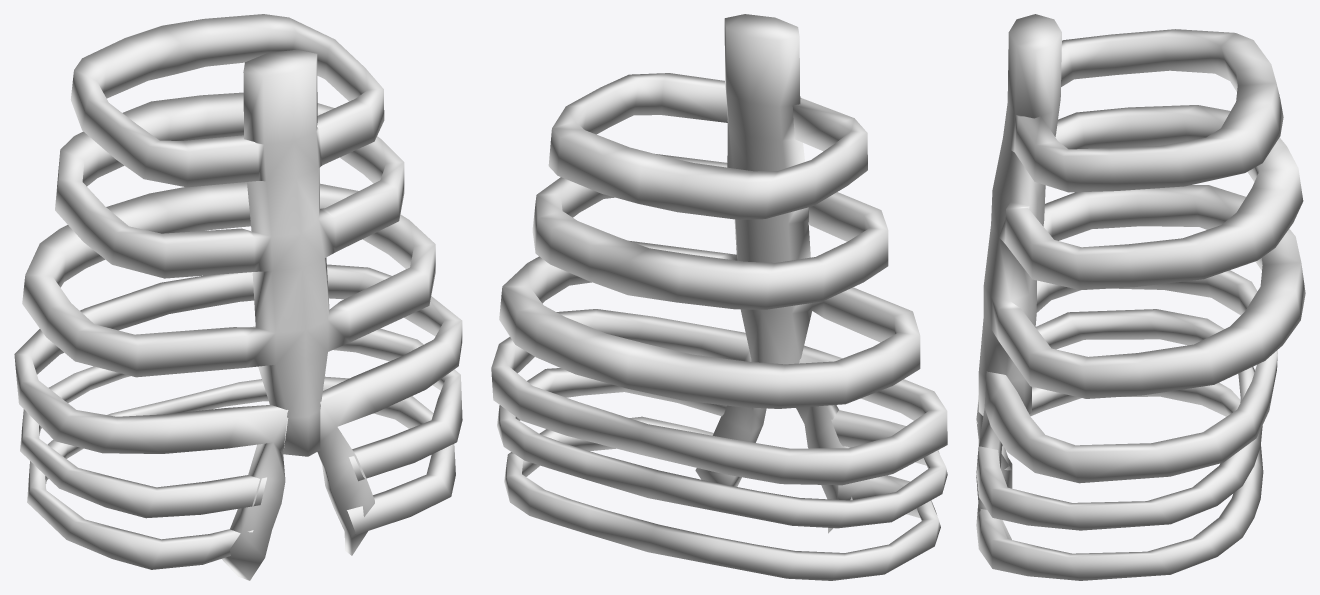
Rendered from rib.obj.
3 views of the same model, side by side, from view 1: azimuth 30°, elevation 25°; view 2: azimuth 150°, elevation 25°; view 3: azimuth 270°, elevation 25° (orthographic).
Parts seen in each view (by area): view 1: 円柱.002; view 2: 円柱.002; view 3: 円柱.002.
Boxes of the visible parts, x1,y1,x2,y2 form: 円柱.002: (14, 14, 462, 580); 円柱.002: (491, 14, 947, 580); 円柱.002: (976, 14, 1305, 580).
Size of the model in its own units: 1.43 by 1.66 by 0.988.
Materials: 1 (1 with a texture image).
